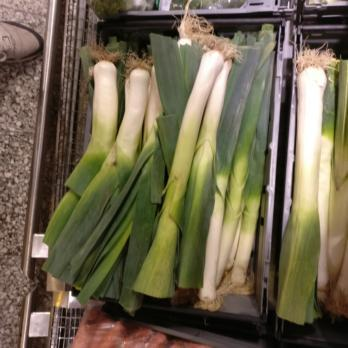Leek Leaves: (81, 32, 263, 303), (272, 36, 348, 324)
